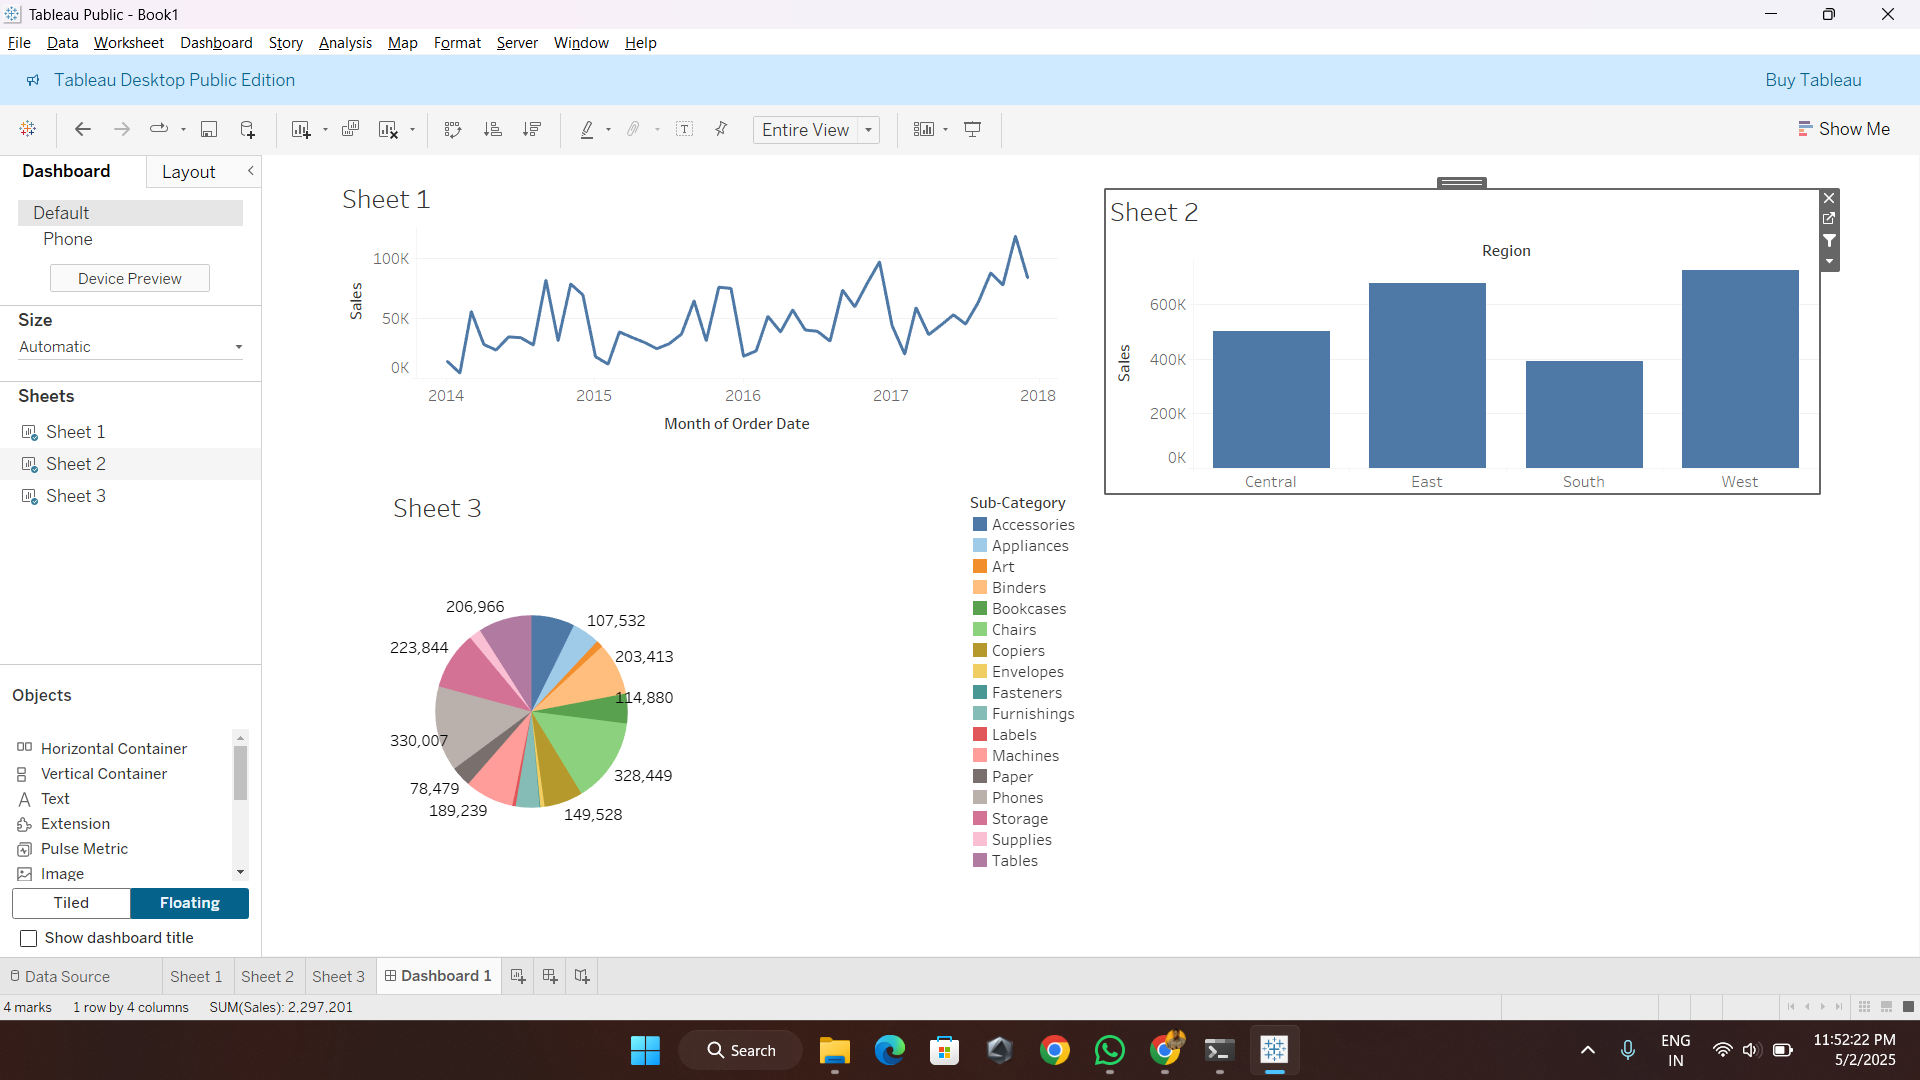

The dashboard page shown, as its layout file describes it:
{"tool":"tableau","page":{"name":"Dashboard 1","canvas":[1000,1000],"units":"permille","ordinal":0},"visuals":[{"type":"worksheet","title":"Sheet 1","mark":"Automatic","rows":["Sales"],"cols":["Order Date"],"box":[45.7,27.8,434.8,330]},{"type":"worksheet","title":"Sheet 2","mark":"Automatic","rows":["Sales"],"cols":["Region"],"box":[509.5,44.2,430.3,378]},{"type":"worksheet","title":"Sheet 3","mark":"Pie","box":[76.9,413.4,557.4,544.9]},{"type":"legend","title":"Sheet 3","param":"[federated.0zytudi18xzlkc154tkg91schba1].[none:Sub-Category:nk]","box":[427,421,132.7,501.9]}]}

Visuals, with their boxes on the dashboard's canvas, which has no fixed pixel size, in thousandths of its width and height (x1, y1, x2, y2). These are canvas units, not pixel positions in the 1920x1080 screenshot, which may show the page scaled, cropped or inside an application window:
"Sheet 1" worksheet: bbox=(46, 28, 480, 358)
"Sheet 2" worksheet: bbox=(510, 44, 940, 422)
"Sheet 3" worksheet (Pie marks): bbox=(77, 413, 634, 958)
"Sheet 3" legend: bbox=(427, 421, 560, 923)
